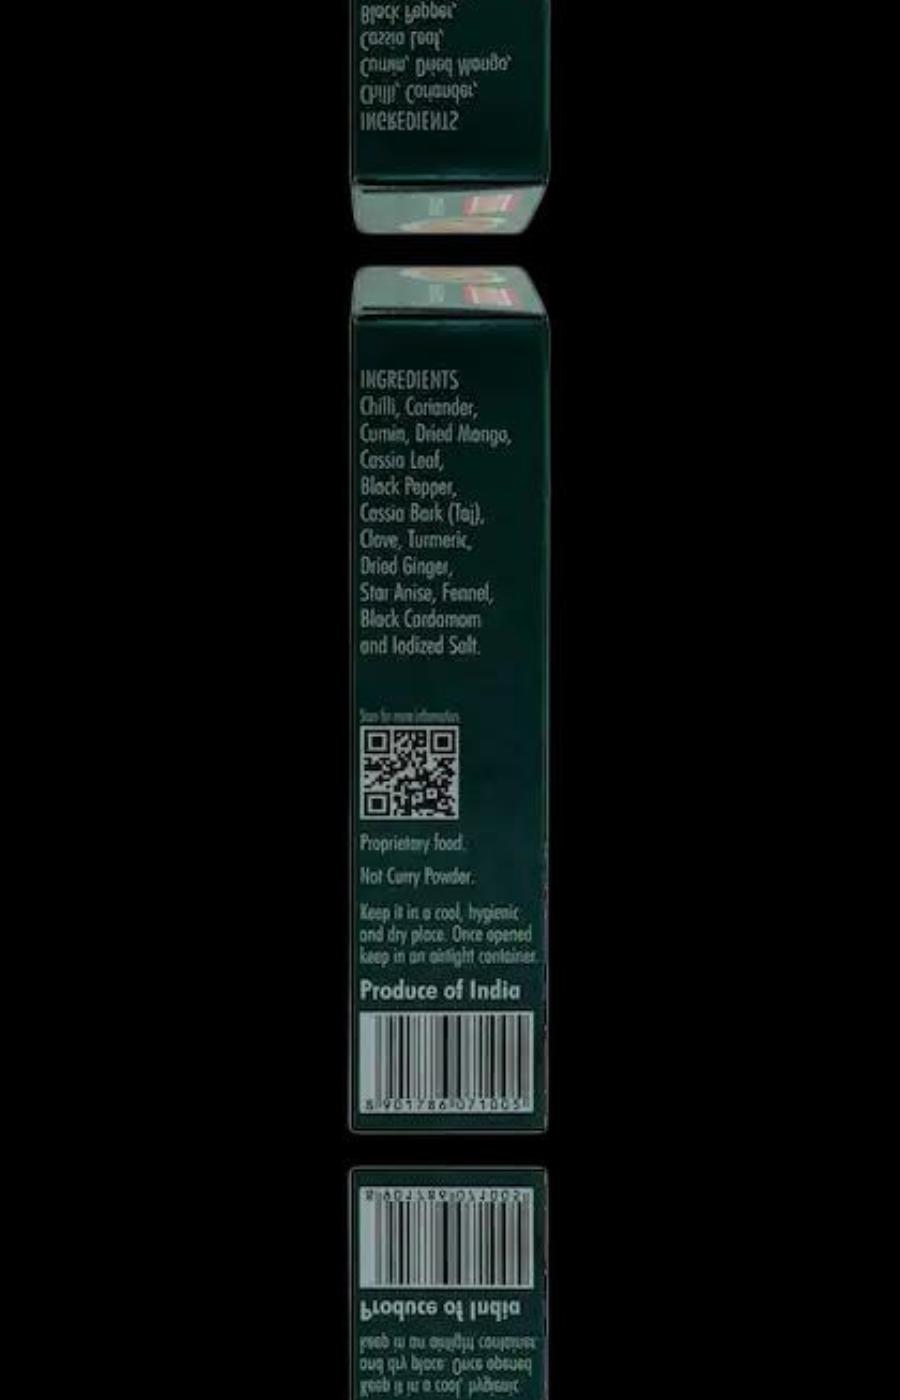Everest Pav Bhaji Masala 100 g: (333, 254, 557, 1138), (332, 0, 557, 246), (332, 1162, 557, 1400)
